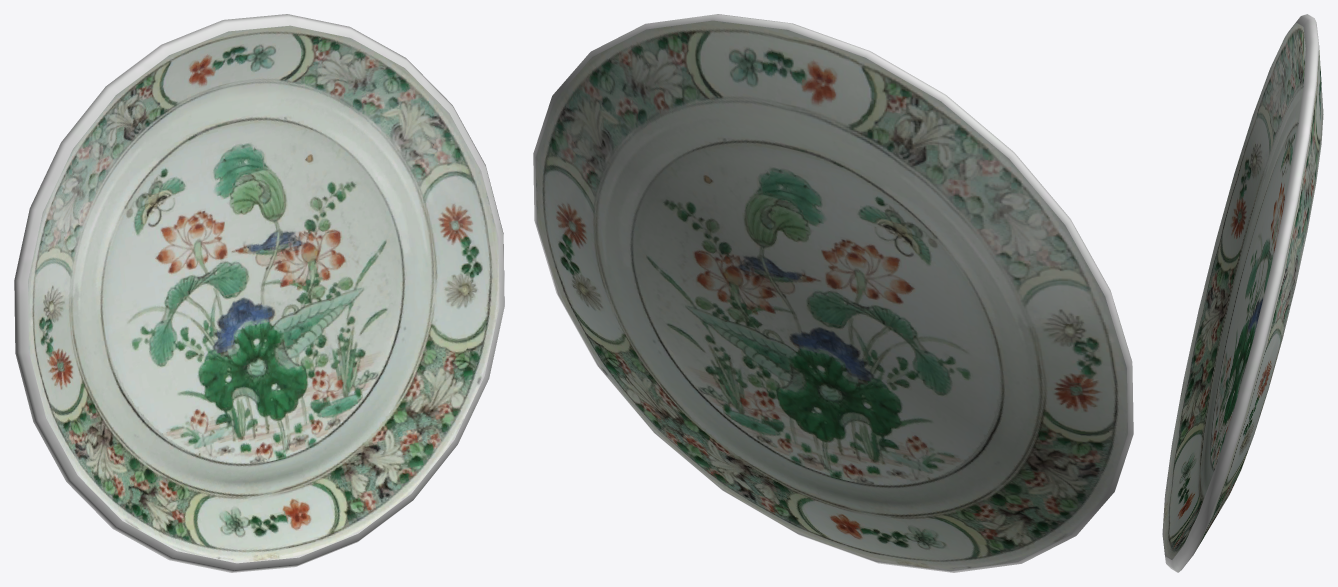
File: Plate1.d.fbx
3 renders of one model, left to right at view 1: azimuth 30°, elevation 25°; view 2: azimuth 150°, elevation 25°; view 3: azimuth 270°, elevation 25°, orthographic. The views are drawn at different scales.
Parts seen in each view (by area): view 1: Group 0; view 2: Group 0; view 3: Group 0.
Part boxes in pixels (x1,y1,x2,y2): Group 0: [14, 14, 504, 572]; Group 0: [533, 14, 1133, 572]; Group 0: [1162, 14, 1323, 572].
Bounding box in the file's own units: 26.86 × 25.94 × 7.5.
1 material, 1 textured.
